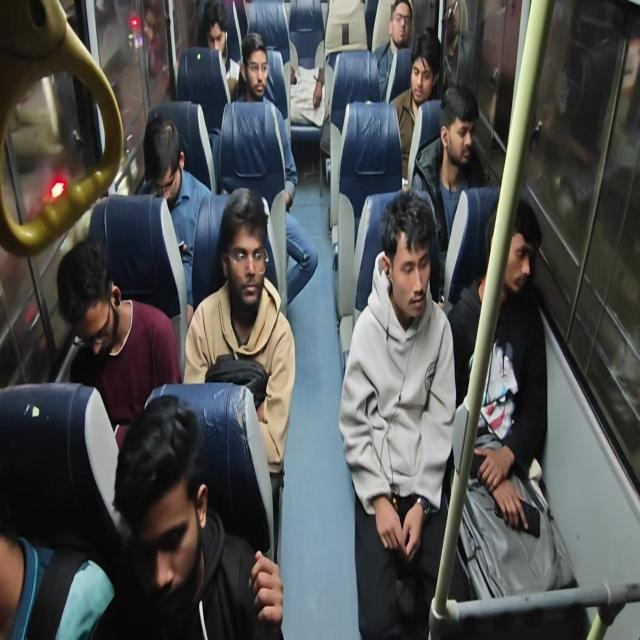person: (444, 197, 578, 601), (338, 188, 458, 638), (109, 393, 284, 639), (182, 187, 296, 561), (56, 237, 182, 452), (232, 32, 318, 304), (136, 115, 212, 324), (410, 83, 488, 251), (0, 530, 116, 639), (389, 26, 442, 189), (287, 0, 325, 126), (196, 0, 240, 102), (373, 0, 413, 102), (440, 0, 471, 90)
